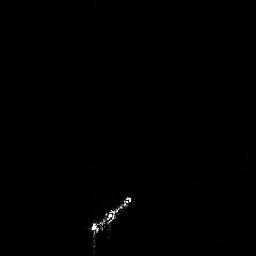ship: (90, 196, 132, 236)
